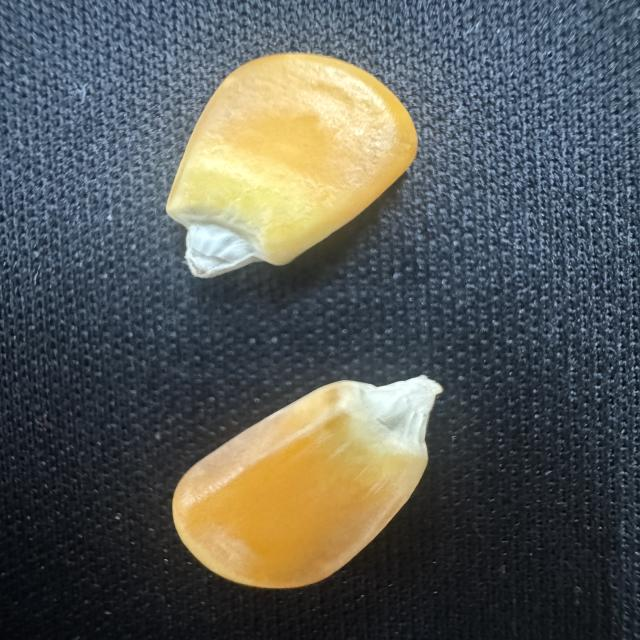Good-Seed: (166, 369, 444, 590), (162, 47, 421, 283)
